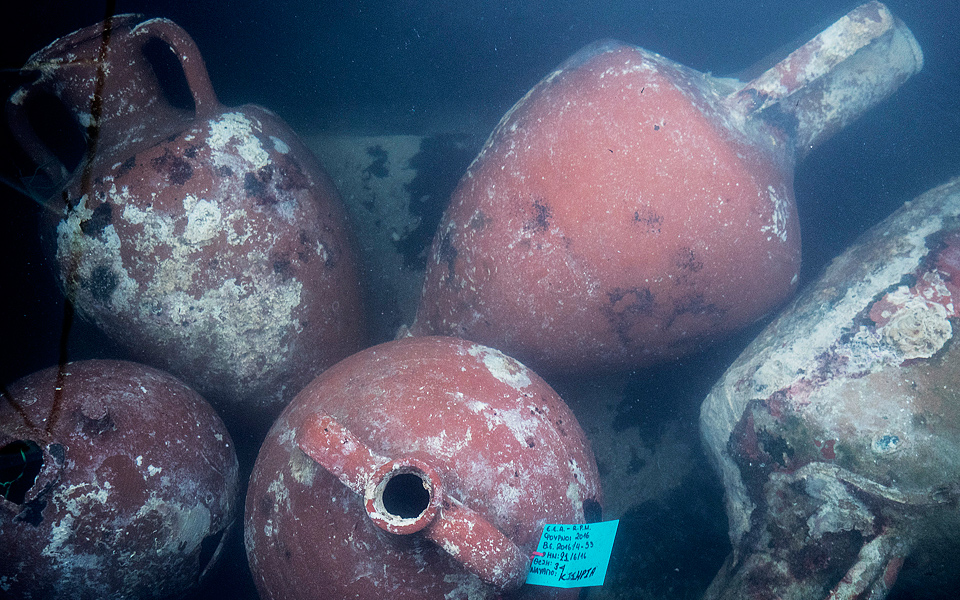amphora: (373, 3, 930, 358), (9, 6, 375, 421), (682, 158, 960, 600), (239, 320, 617, 600), (1, 356, 242, 600)
